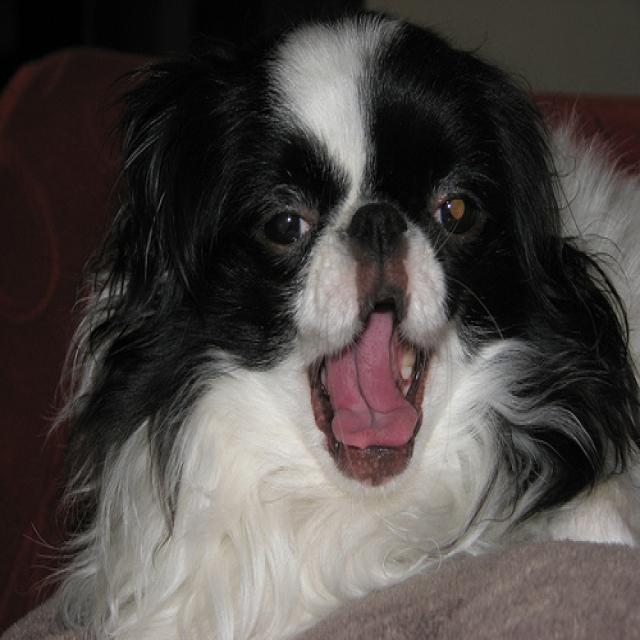dog-japanese_chin: (17, 2, 637, 637)
